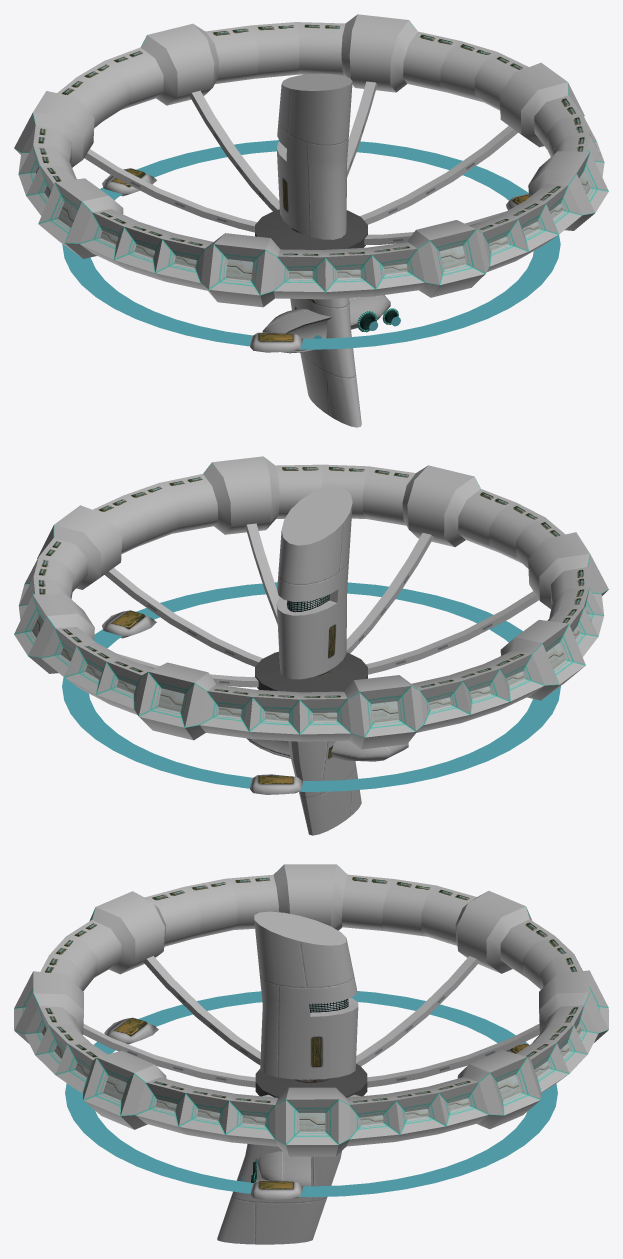
Rendered from spaceStationFilipe 1.FBX.
3 views of the same model, one above another, from view 1: azimuth 30°, elevation 25°; view 2: azimuth 150°, elevation 25°; view 3: azimuth 270°, elevation 25° (orthographic).
Visible parts, largest first — view 1: Cylinder025, Cylinder035, Torus013, Torus017, Torus014, Torus001, Torus012, Torus016, Torus015, Torus011, ring010, ring025 (+31 smaller); view 2: Cylinder025, Cylinder035, Torus011, Torus015, Torus001, Torus014, Torus012, Torus016, Torus017, Torus013, ring003, ring030 (+30 smaller); view 3: Cylinder025, Cylinder035, Torus016, Torus015, Torus017, Torus012, Torus011, Torus013, Torus014, Torus001, ring019, ring036 (+31 smaller).
Boxes of the visible parts, x1=… form: Cylinder025: x1=276, y1=73, x2=361, y2=427; Cylinder035: x1=62, y1=140, x2=560, y2=349; Torus013: x1=201, y1=233, x2=280, y2=307; Torus017: x1=341, y1=14, x2=417, y2=92; Torus014: x1=408, y1=220, x2=489, y2=297; Torus001: x1=140, y1=23, x2=218, y2=105; Torus012: x1=38, y1=178, x2=123, y2=258; Torus016: x1=499, y1=62, x2=584, y2=147; Torus015: x1=528, y1=151, x2=608, y2=230; Torus011: x1=14, y1=91, x2=94, y2=167; ring010: x1=273, y1=249, x2=325, y2=299; ring025: x1=324, y1=247, x2=375, y2=299; Cylinder025: x1=276, y1=486, x2=361, y2=835; Cylinder035: x1=62, y1=582, x2=560, y2=791; Torus011: x1=344, y1=675, x2=423, y2=749; Torus015: x1=203, y1=456, x2=279, y2=534; Torus001: x1=134, y1=662, x2=216, y2=740; Torus014: x1=402, y1=465, x2=480, y2=547; Torus012: x1=500, y1=620, x2=585, y2=700; Torus016: x1=37, y1=505, x2=122, y2=589; Torus017: x1=14, y1=594, x2=94, y2=673; Torus013: x1=528, y1=532, x2=608, y2=608; ring003: x1=299, y1=691, x2=351, y2=741; ring030: x1=249, y1=690, x2=300, y2=741; Cylinder025: x1=217, y1=911, x2=358, y2=1244; Cylinder035: x1=65, y1=991, x2=557, y2=1197; Torus016: x1=275, y1=1087, x2=349, y2=1156; Torus015: x1=83, y1=1050, x2=166, y2=1129; Torus017: x1=457, y1=1050, x2=541, y2=1129; Torus012: x1=273, y1=864, x2=347, y2=930; Torus011: x1=455, y1=891, x2=531, y2=973; Torus013: x1=89, y1=891, x2=166, y2=974; Torus014: x1=14, y1=971, x2=83, y2=1043; Torus001: x1=539, y1=970, x2=608, y2=1042; ring019: x1=346, y1=1093, x2=399, y2=1146; ring036: x1=225, y1=1094, x2=277, y2=1146.
Bounding box in the file's own units: 178 × 106 × 178.
